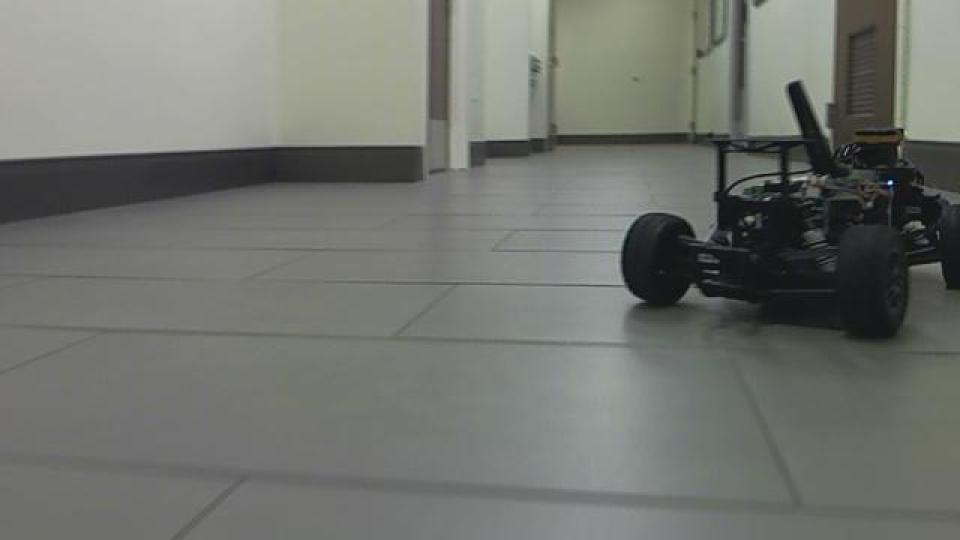car: (617, 77, 957, 340)
